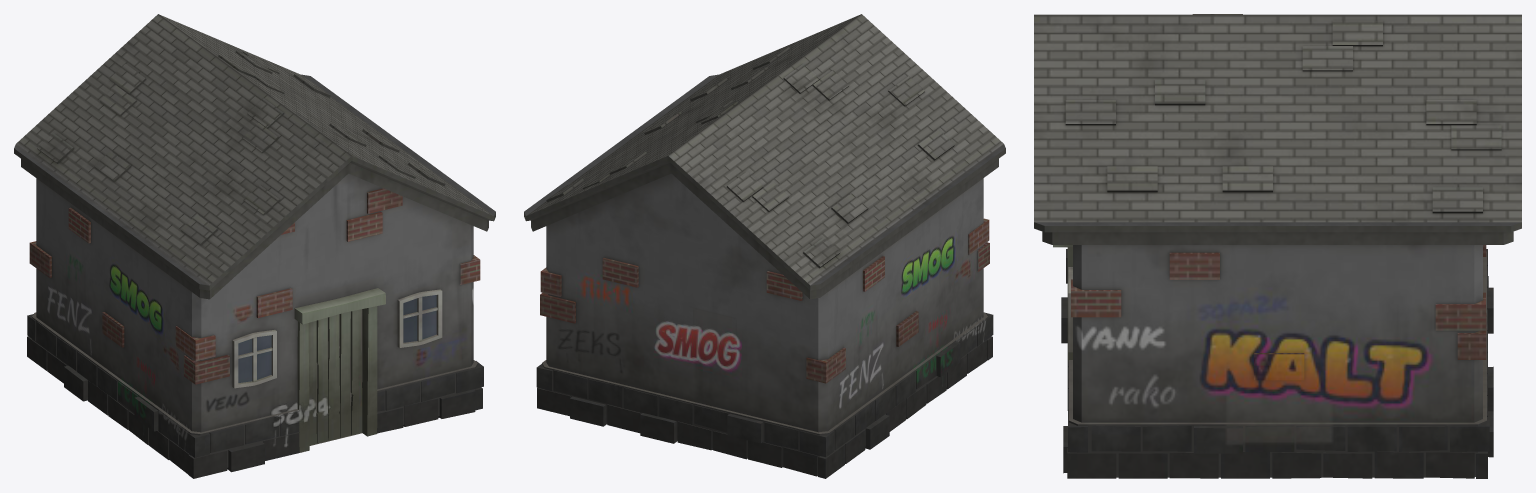
The model's file is 1Story_GableRoof.glb.
3 renders of one model, left to right at view 1: azimuth 30°, elevation 25°; view 2: azimuth 150°, elevation 25°; view 3: azimuth 270°, elevation 25°, orthographic. The views are drawn at different scales.
Visible parts, largest first — view 1: 1Story_GableRoof_low; view 2: 1Story_GableRoof_low; view 3: 1Story_GableRoof_low.
Part boxes in pixels (x1,y1,x2,y2): 1Story_GableRoof_low: (14, 14, 495, 478); 1Story_GableRoof_low: (524, 14, 1005, 478); 1Story_GableRoof_low: (1034, 14, 1521, 478).
Size of the model in its own units: 2.11 by 2.02 by 2.38.
Materials: 2 (2 with a texture image).
